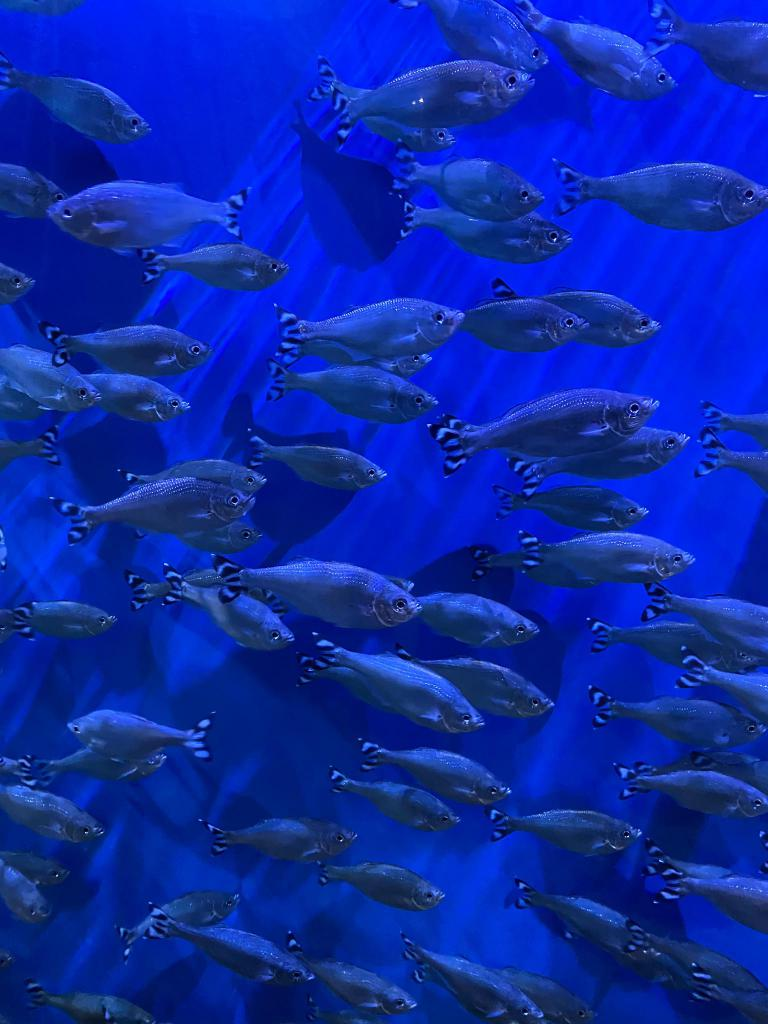Fish: (426, 391, 767, 818), (293, 0, 763, 262), (50, 429, 541, 650), (266, 280, 664, 422), (110, 888, 419, 1013), (1, 163, 290, 293), (509, 878, 766, 1024), (354, 739, 642, 855), (0, 320, 214, 476), (2, 709, 216, 843), (295, 634, 556, 733), (199, 816, 447, 912), (401, 929, 597, 1021), (553, 158, 767, 230), (3, 52, 154, 143), (329, 762, 463, 832), (20, 975, 161, 1024), (0, 600, 118, 644), (4, 852, 74, 923), (3, 264, 39, 306)
